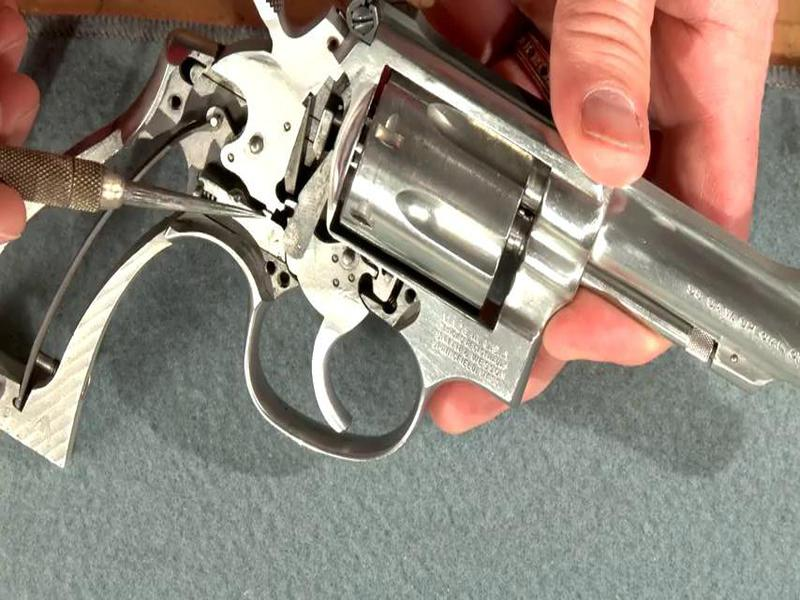Revolver: (22, 18, 779, 471)
